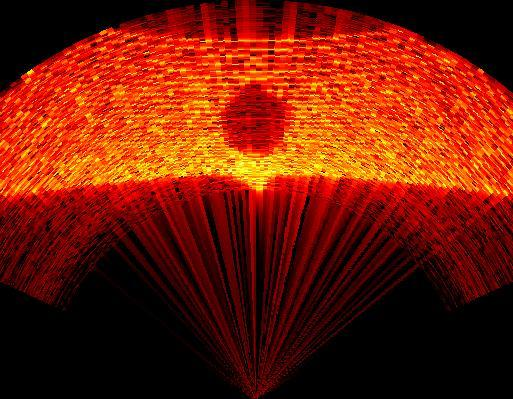box_crate: (219, 82, 290, 160)
